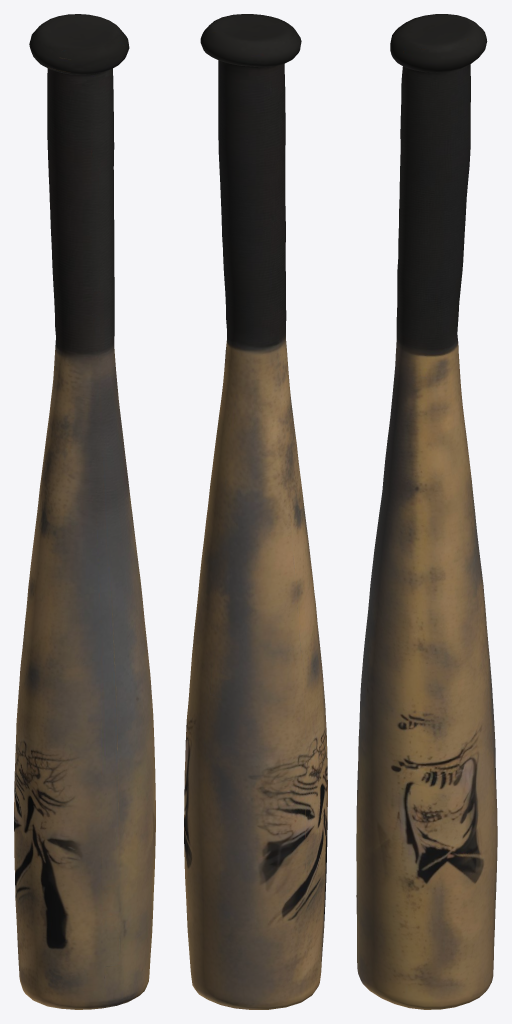
Rendered from metalic_bat.fbx.
3 renders of one model, left to right at view 1: azimuth 30°, elevation 25°; view 2: azimuth 150°, elevation 25°; view 3: azimuth 270°, elevation 25°, orthographic.
Parts seen in each view (by area): view 1: metalic_bat; view 2: metalic_bat; view 3: metalic_bat.
Part boxes in pixels (x1,y1,x2,y2): metalic_bat: (14, 14, 155, 1009); metalic_bat: (184, 14, 327, 1009); metalic_bat: (356, 14, 497, 1009).
Size of the model in its own units: 12.28 by 92.53 by 12.33.
Materials: 1 (1 with a texture image).
